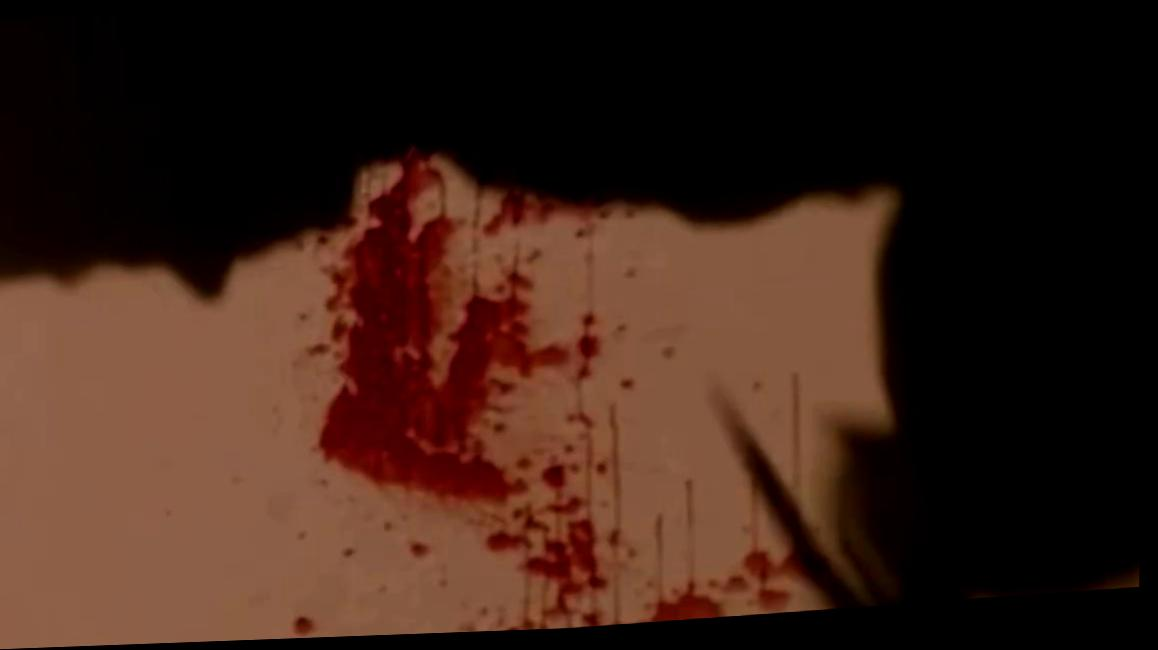Fire: (107, 0, 807, 646)
